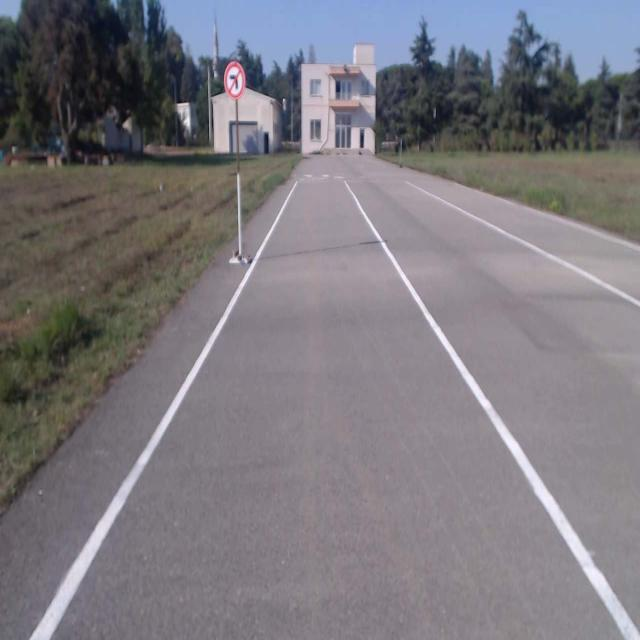soladonulmez: (223, 62, 244, 99)
